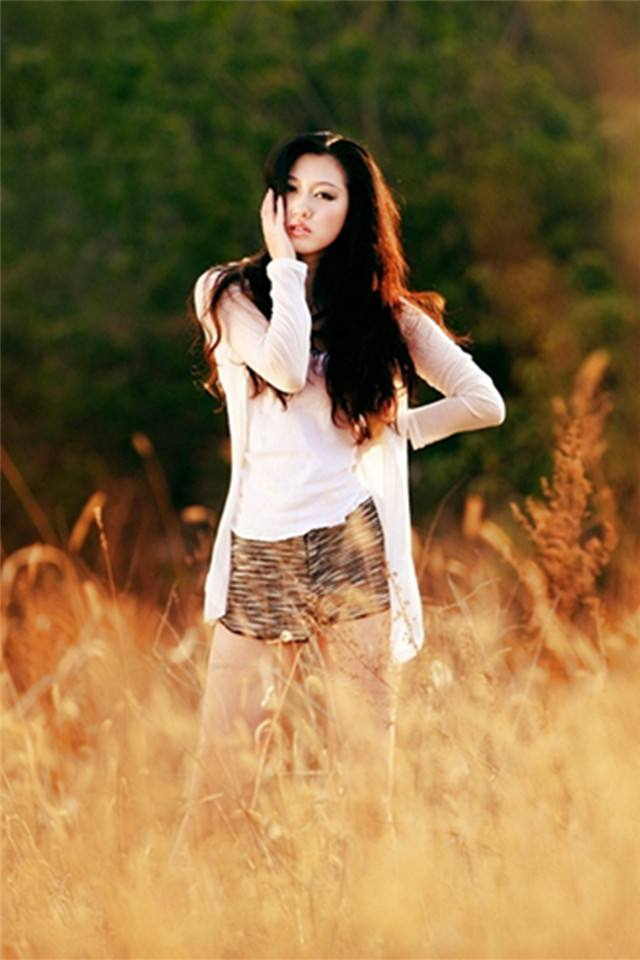person: (177, 91, 528, 929)
